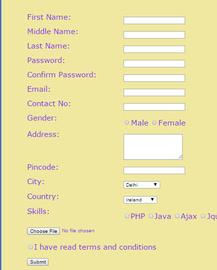button: (25, 227, 61, 235), (26, 258, 49, 266)
checkbox: (27, 243, 34, 251)
checkbox_with_label: (25, 242, 157, 252)
field: (122, 133, 184, 161), (121, 165, 185, 176), (122, 44, 185, 55), (121, 87, 184, 98), (120, 102, 184, 112), (122, 30, 185, 40), (122, 73, 185, 83), (122, 16, 186, 25), (121, 60, 185, 69), (123, 196, 159, 205), (124, 181, 161, 189)
field_with_label: (27, 131, 185, 162), (26, 13, 187, 27), (26, 27, 187, 41), (26, 71, 186, 85), (26, 85, 186, 99), (26, 100, 186, 114), (27, 163, 187, 177), (27, 42, 186, 56), (26, 57, 186, 70), (26, 193, 160, 207), (26, 178, 162, 191)
radio: (123, 211, 131, 220), (174, 211, 181, 221), (149, 212, 157, 220), (201, 212, 209, 220), (152, 118, 157, 127), (123, 120, 129, 127)
radio_with_label: (27, 115, 130, 129), (150, 117, 186, 128), (172, 210, 197, 222), (121, 118, 149, 128), (121, 210, 145, 221), (148, 211, 170, 222)
